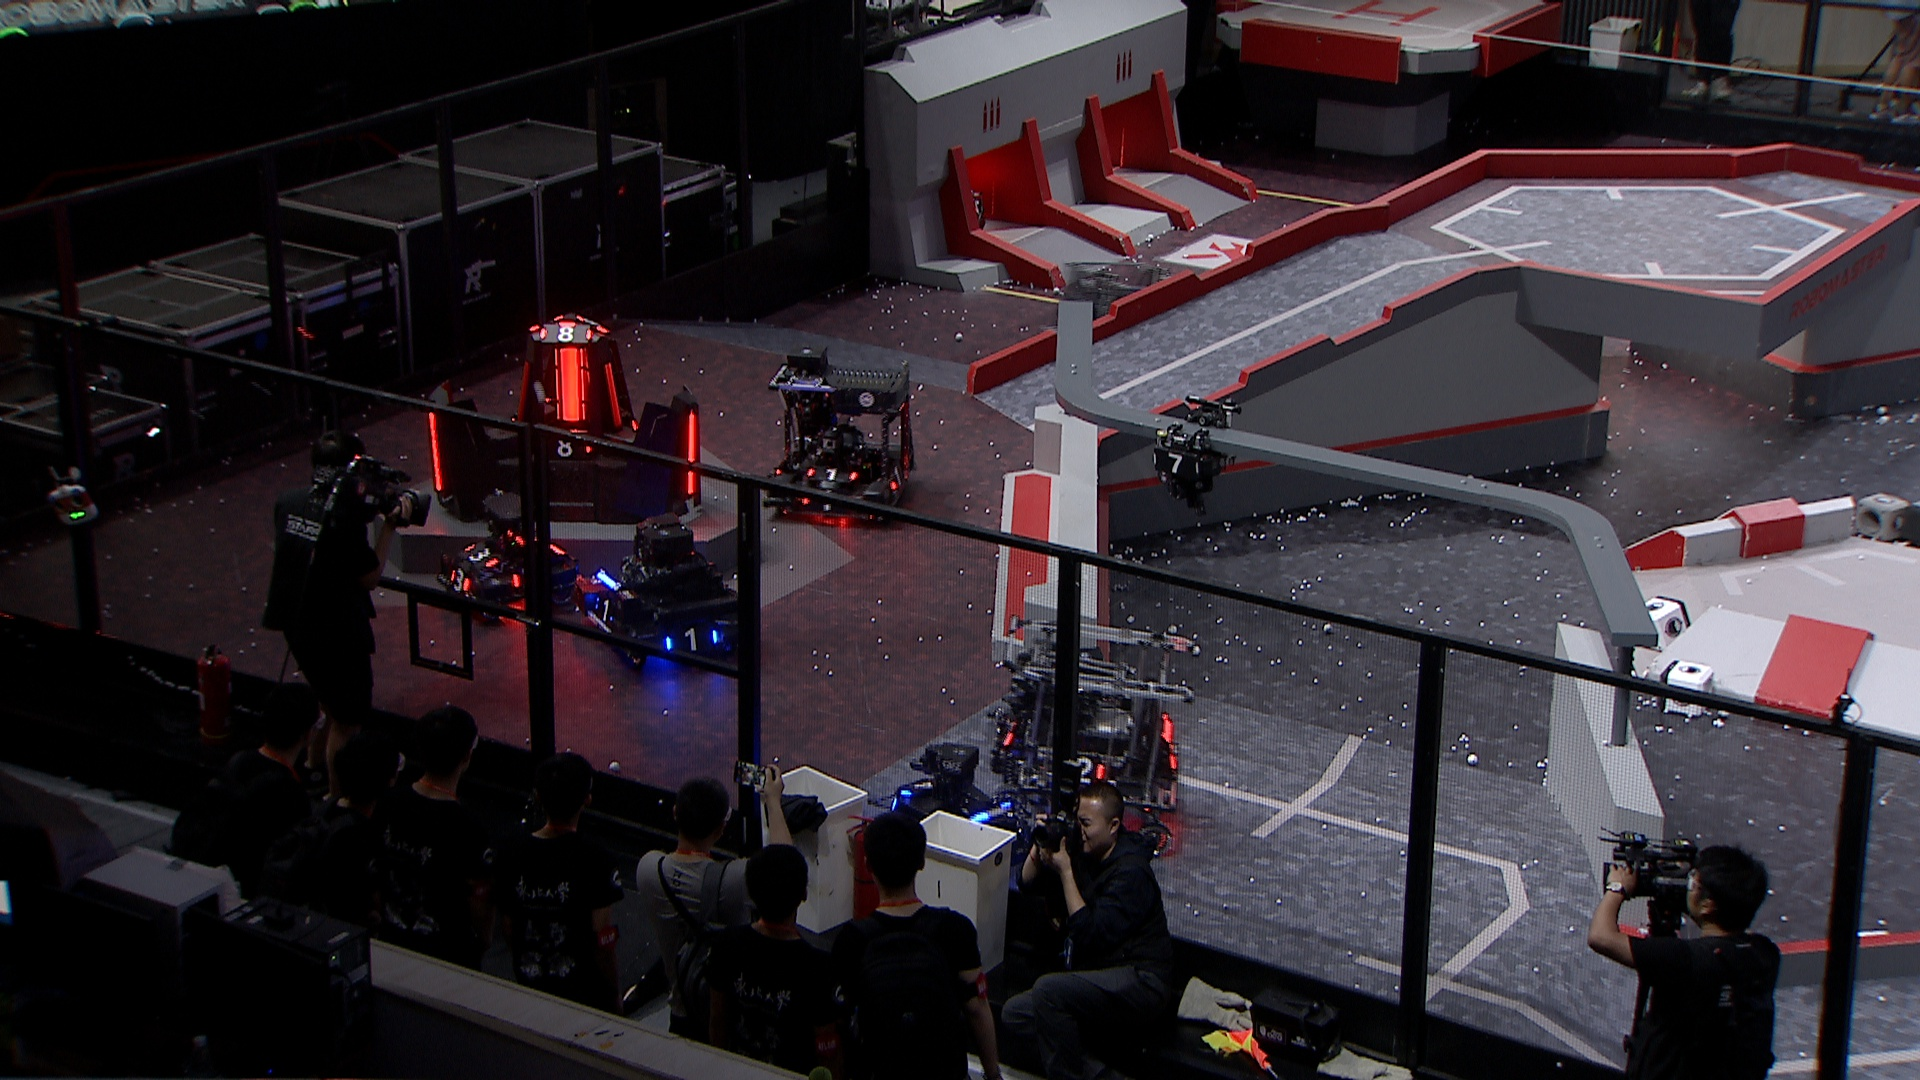armor: (553, 345, 588, 425), (665, 622, 719, 655), (425, 409, 446, 491), (600, 361, 624, 429), (1150, 450, 1204, 477), (538, 324, 593, 345), (684, 409, 698, 495), (806, 462, 858, 483), (798, 488, 843, 512), (545, 436, 595, 458), (463, 542, 500, 570), (1072, 756, 1106, 785), (516, 363, 531, 422), (898, 777, 940, 798), (591, 597, 617, 626), (444, 566, 473, 591), (891, 463, 909, 493)
base: (419, 309, 705, 527)
car: (989, 612, 1187, 855), (579, 513, 749, 676), (764, 342, 913, 527), (861, 738, 1033, 878), (1040, 256, 1188, 384), (438, 491, 579, 618)
watcher: (1149, 394, 1242, 516)
